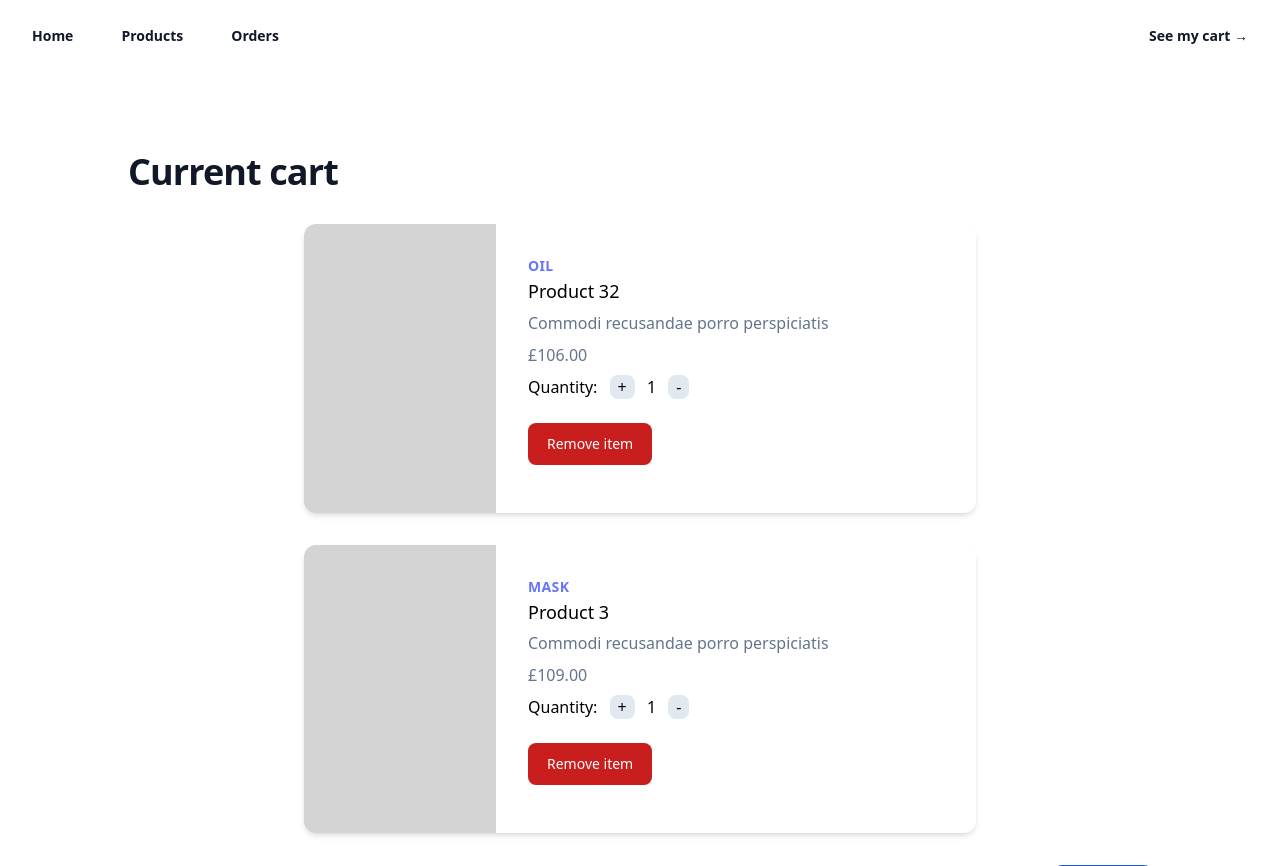
Scenario: Cart page › should allow the user to change the quantity of a product
Click the button with test id "increment-quantity-button" below "£106.00".
click(623, 387)  # box [610,375,635,399]
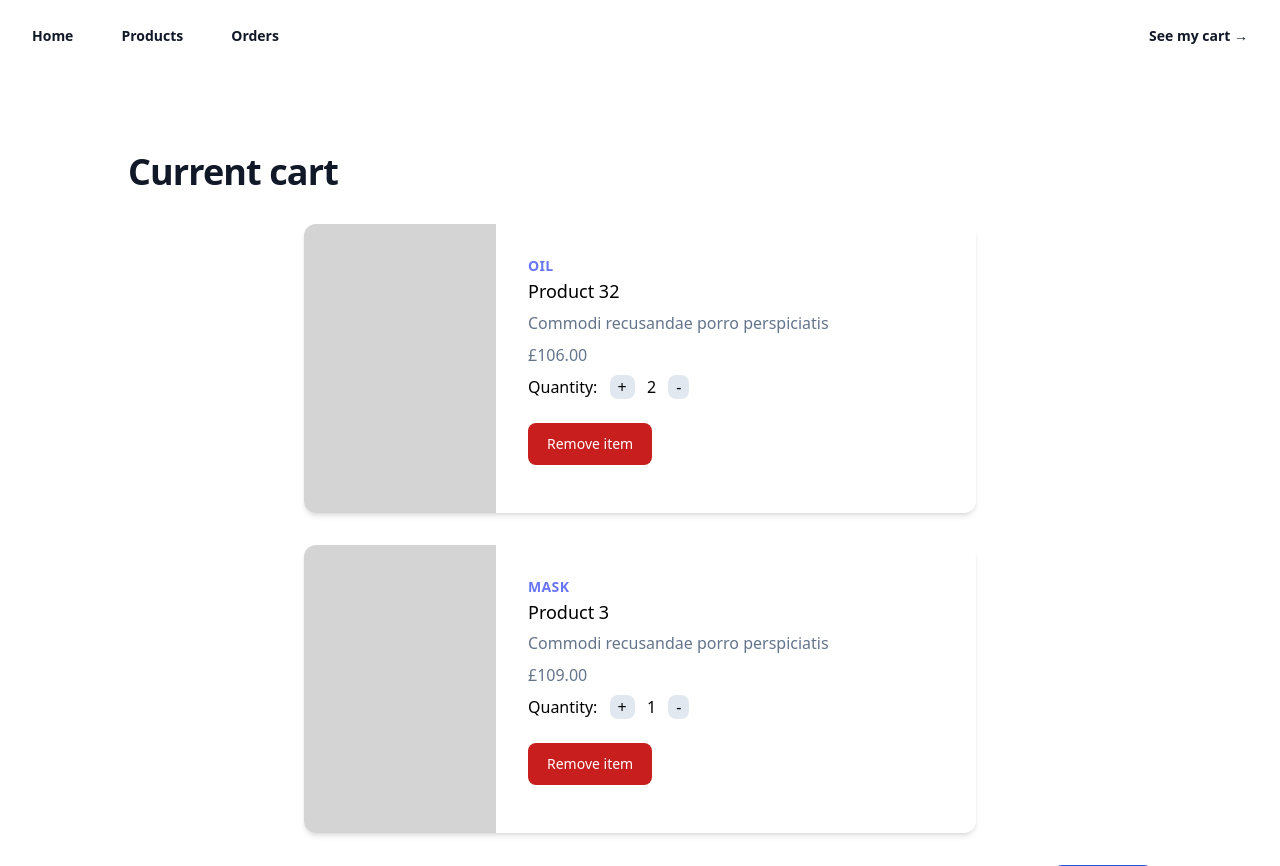
expect the text with test id "quantity" reads "2": met, box [647,376,656,398]
Click the button with test id "decrement-quantity-button" below "£106.00".
click(679, 387)  # box [668,375,689,399]
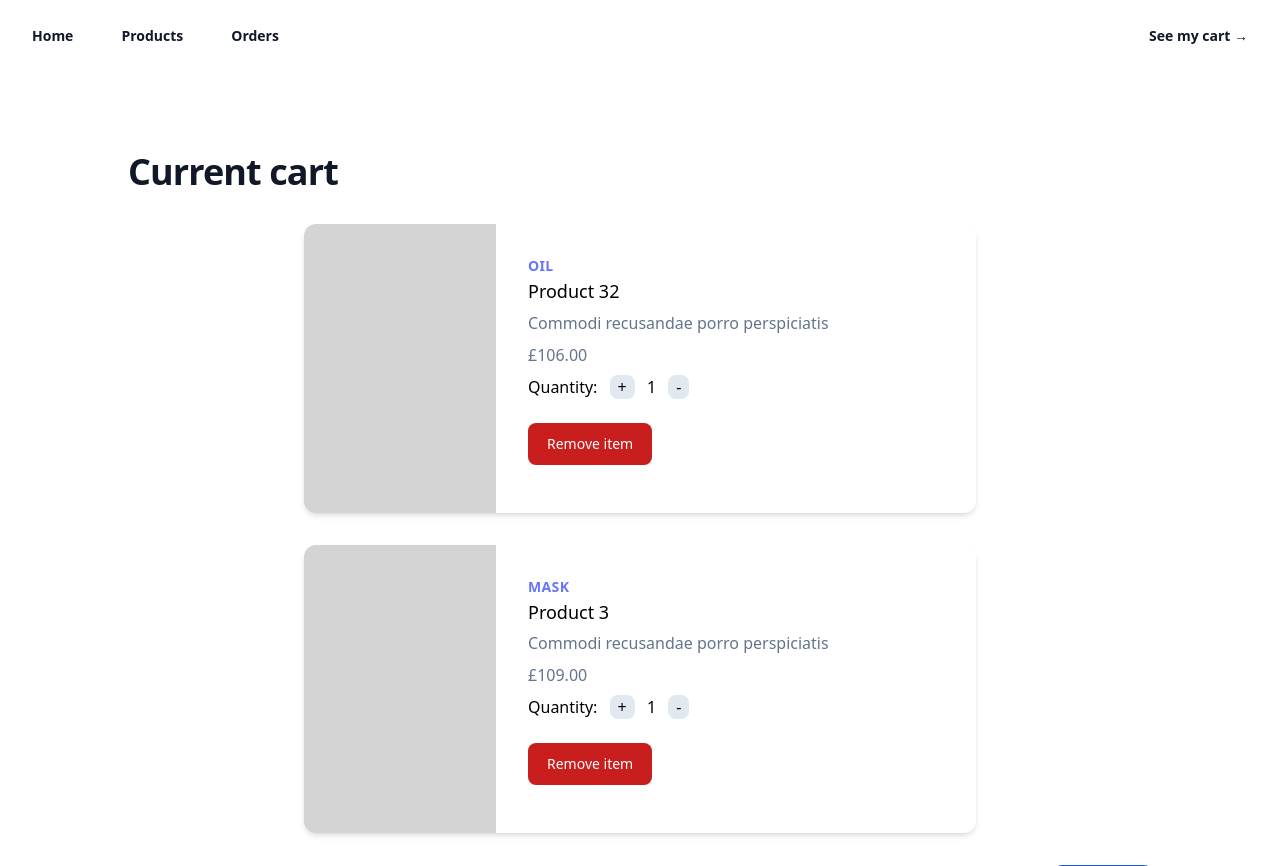
expect the text with test id "quantity" below "£106.00" reads "1": met, box [647,376,656,398]
